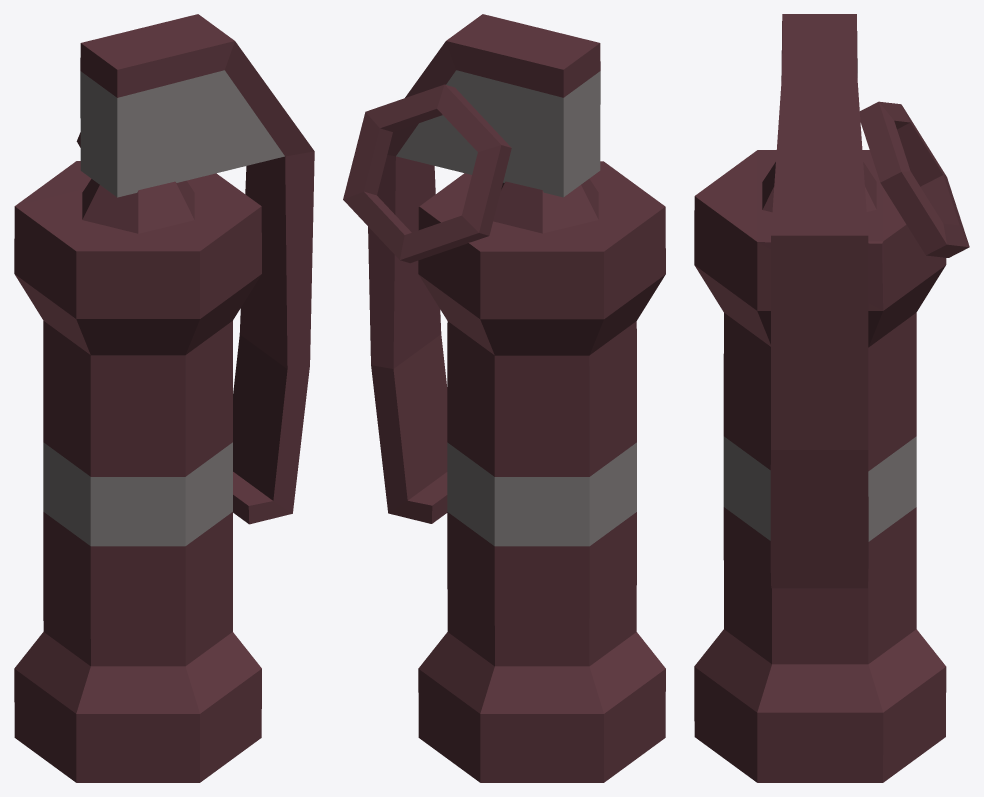
Rendered from SM_Grenade_Stun.fbx.
3 renders of one model, left to right at view 1: azimuth 30°, elevation 25°; view 2: azimuth 150°, elevation 25°; view 3: azimuth 270°, elevation 25°, orthographic.
Parts seen in each view (by area): view 1: SM_Grenade_Stun; view 2: SM_Grenade_Stun; view 3: SM_Grenade_Stun.
Boxes of the visible parts, box(x1,y1,x2,y2) form: SM_Grenade_Stun: box(14, 14, 314, 782); SM_Grenade_Stun: box(343, 14, 665, 782); SM_Grenade_Stun: box(694, 14, 969, 782).
Size of the model in its own units: 0.0542 by 0.1461 by 0.0519.
